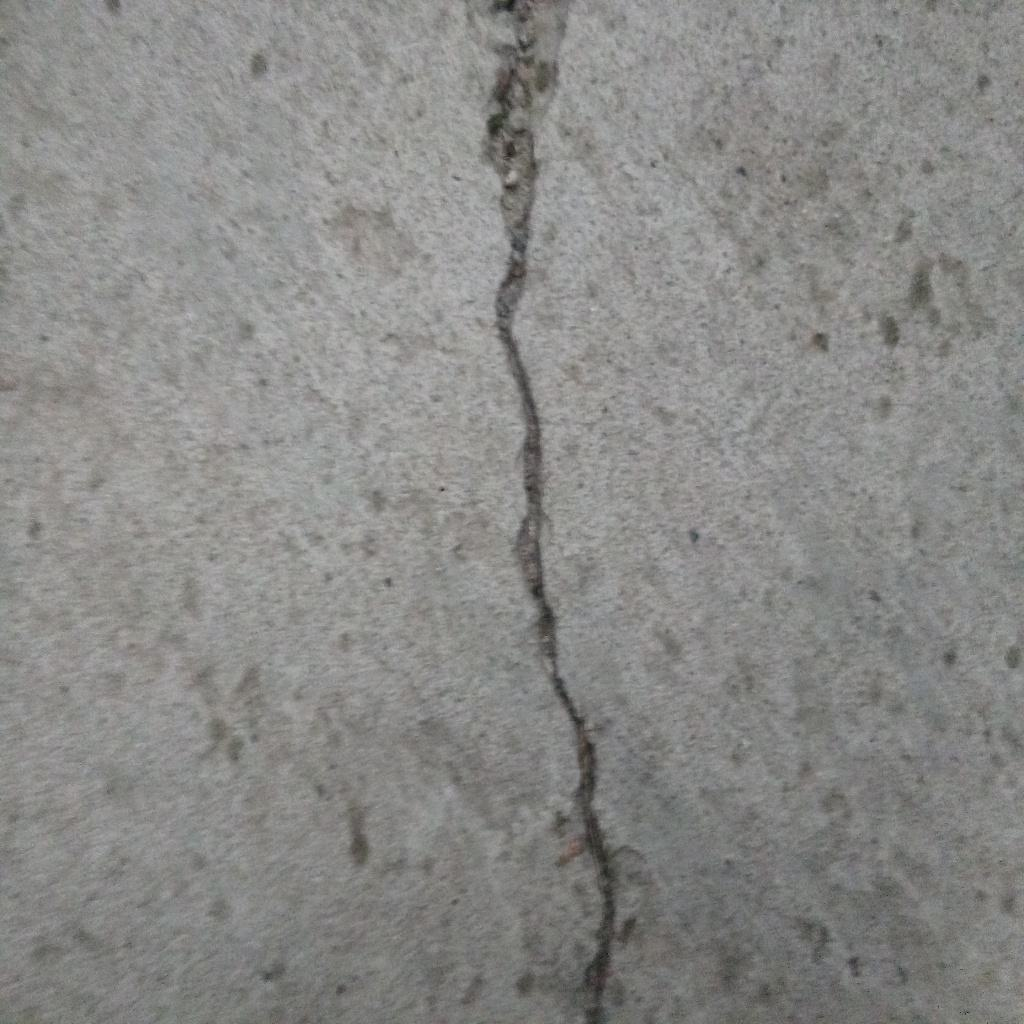Crack: (482, 1, 616, 1024)
